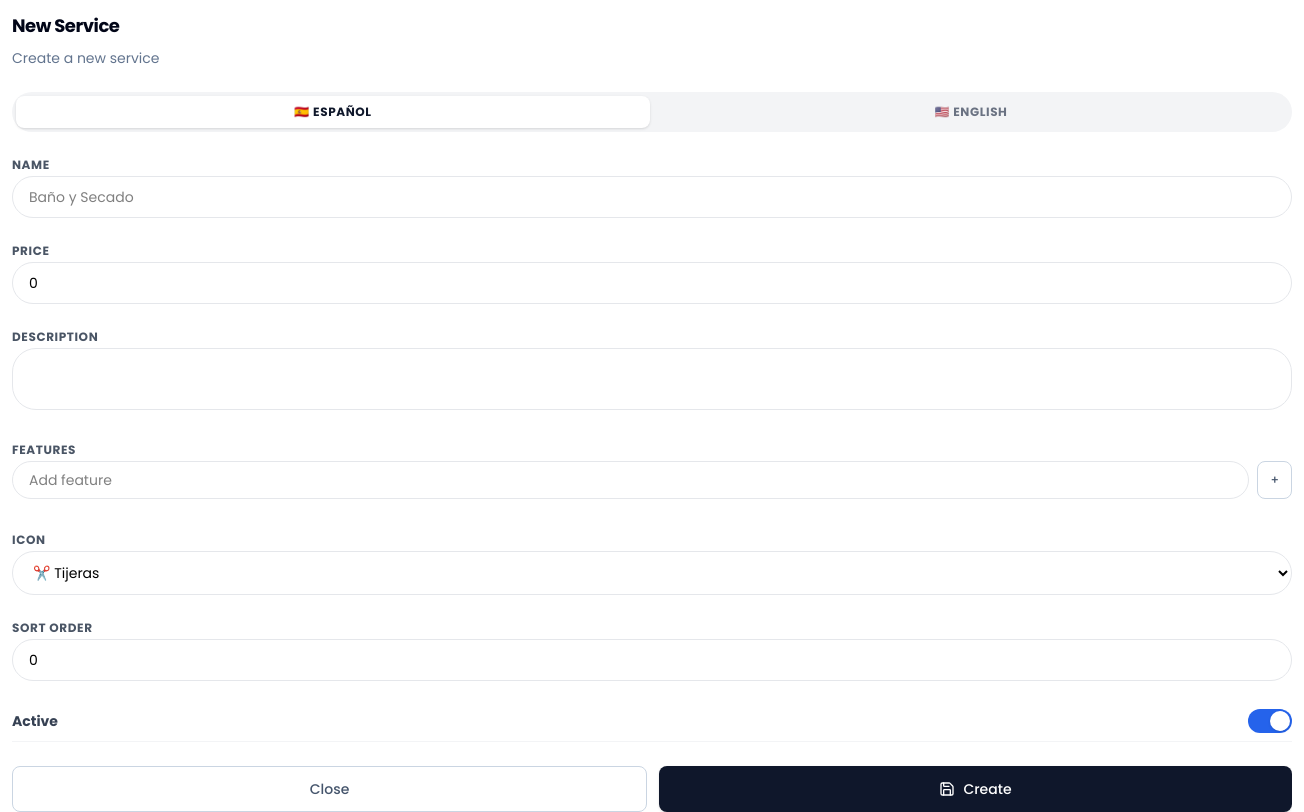
Test case: ServiceFormSidebar › handles create failure
The width and height of the screenshot is (1304, 812).
In the field with placeholder "Baño y Secado": (652, 197) [12,176,1292,218], type "New Service"
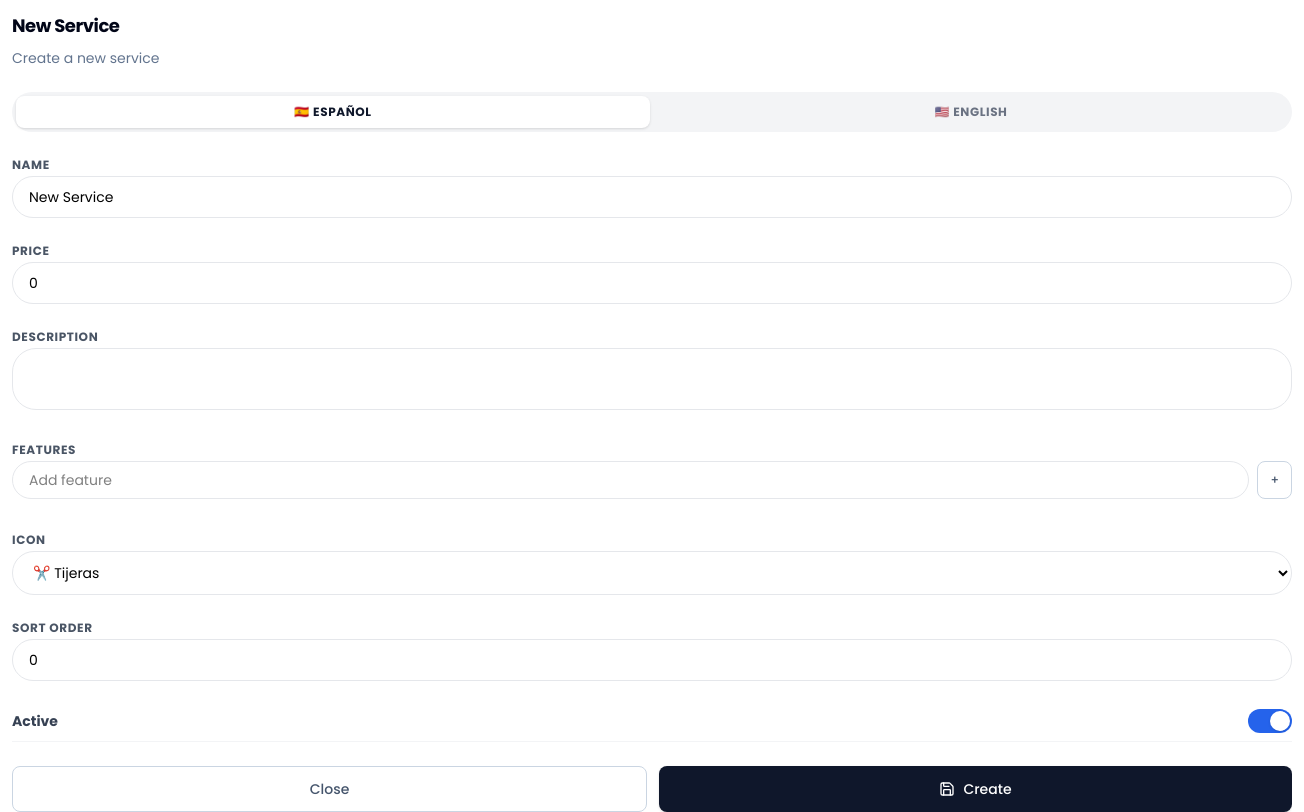
Click the button "Create": (976, 789) [659,766,1292,811]
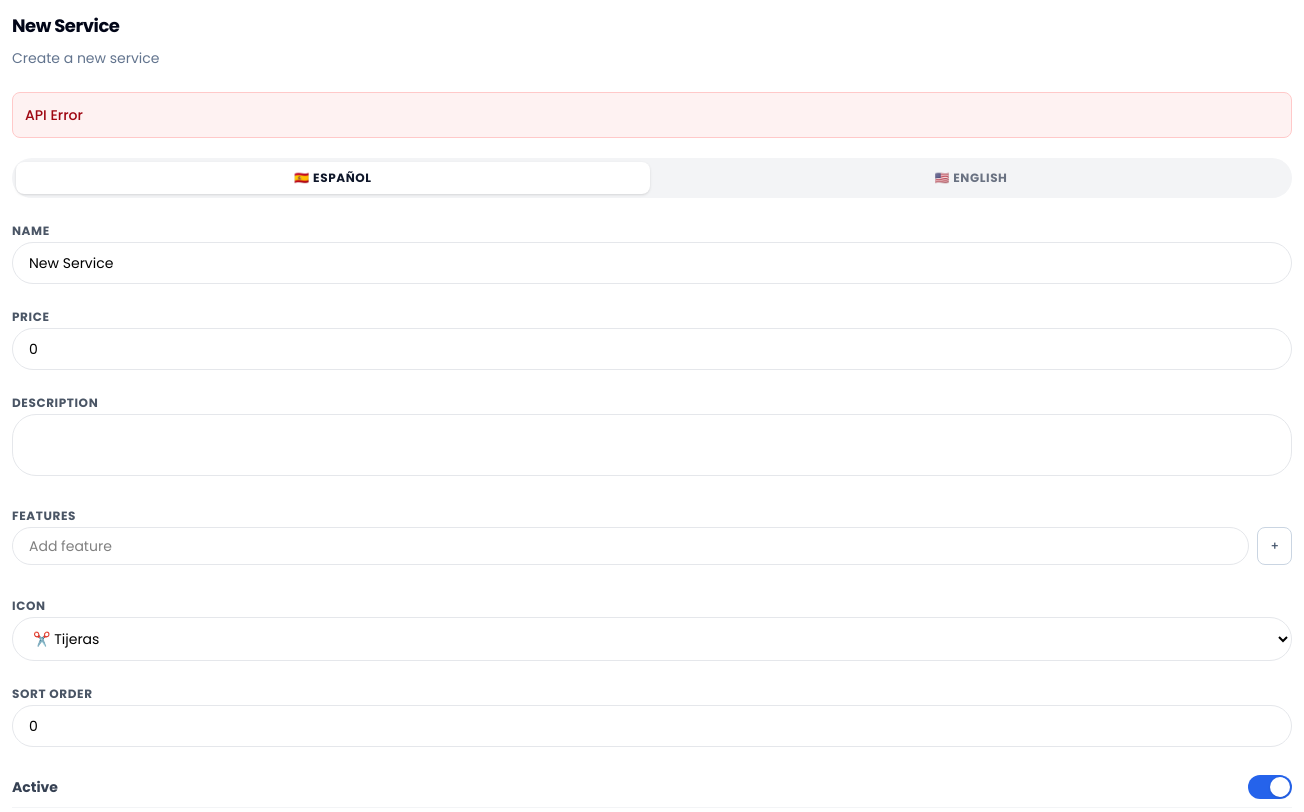
expect the text "API Error" is shown: met, box [12,92,1292,138]
